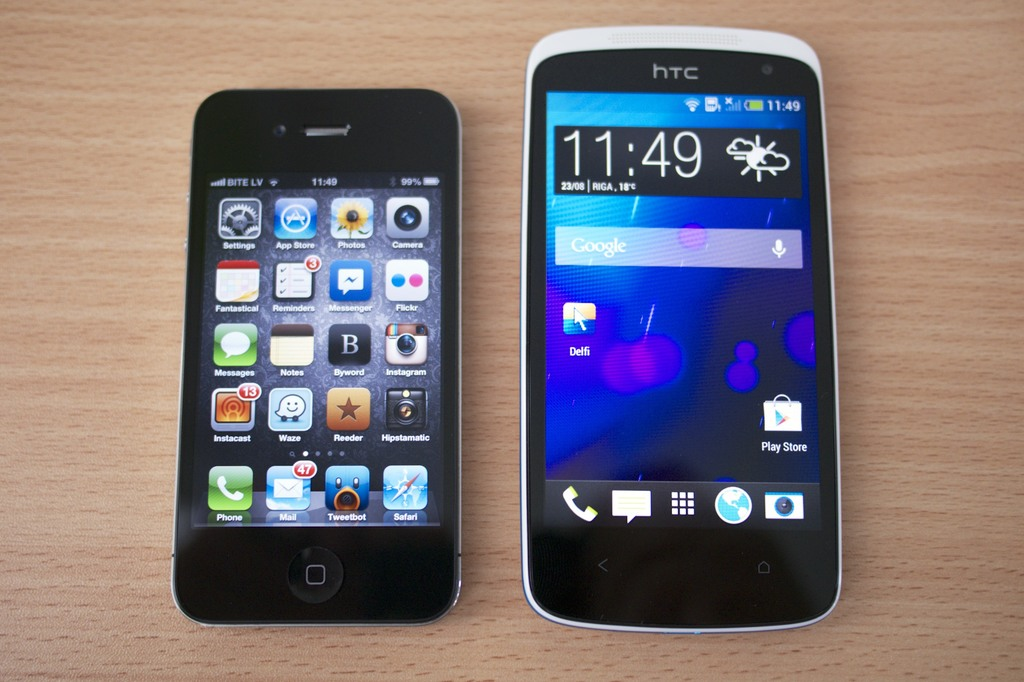mobile phone: (522, 25, 844, 633), (167, 87, 464, 626)
